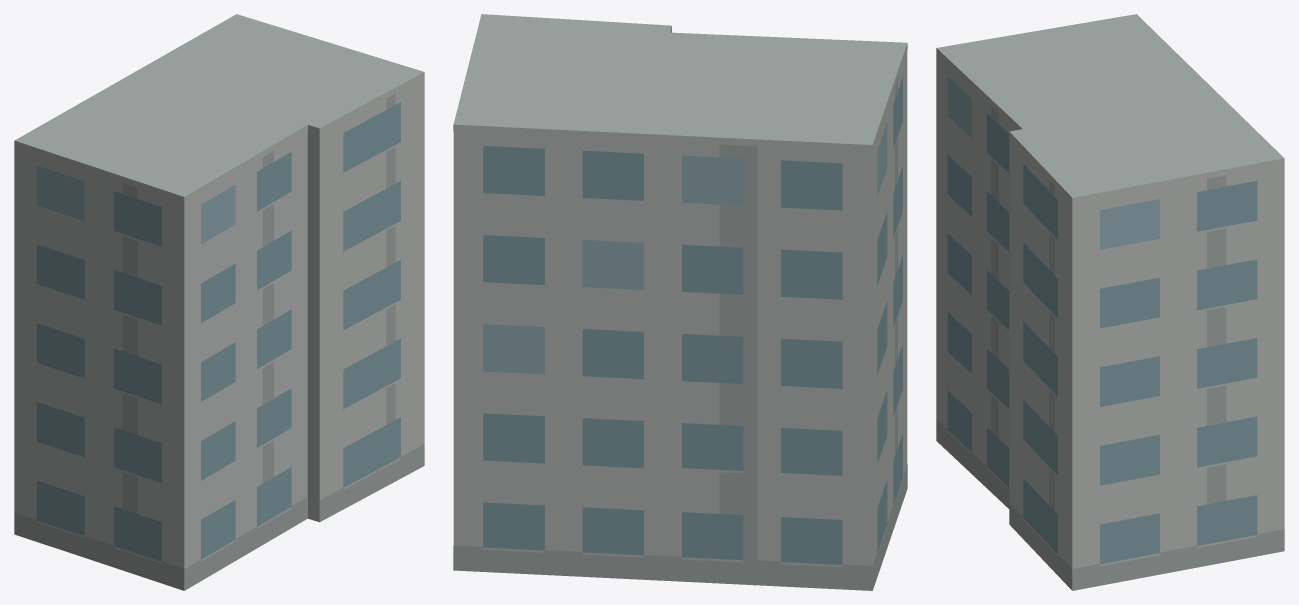
File: survey-upis-32857954.glb
3 renders of one model, left to right at view 1: azimuth 30°, elevation 25°; view 2: azimuth 150°, elevation 25°; view 3: azimuth 270°, elevation 25°, orthographic. The views are drawn at different scales.
Visible parts, largest first — view 1: survey-upis-32857954.tmp; view 2: survey-upis-32857954.tmp; view 3: survey-upis-32857954.tmp.
Part boxes in pixels (x1=…): survey-upis-32857954.tmp: x1=14, y1=14, x2=424, y2=590; survey-upis-32857954.tmp: x1=453, y1=14, x2=907, y2=590; survey-upis-32857954.tmp: x1=936, y1=14, x2=1284, y2=590.
Size of the model in its own units: 15.62 by 15.55 by 12.49.
